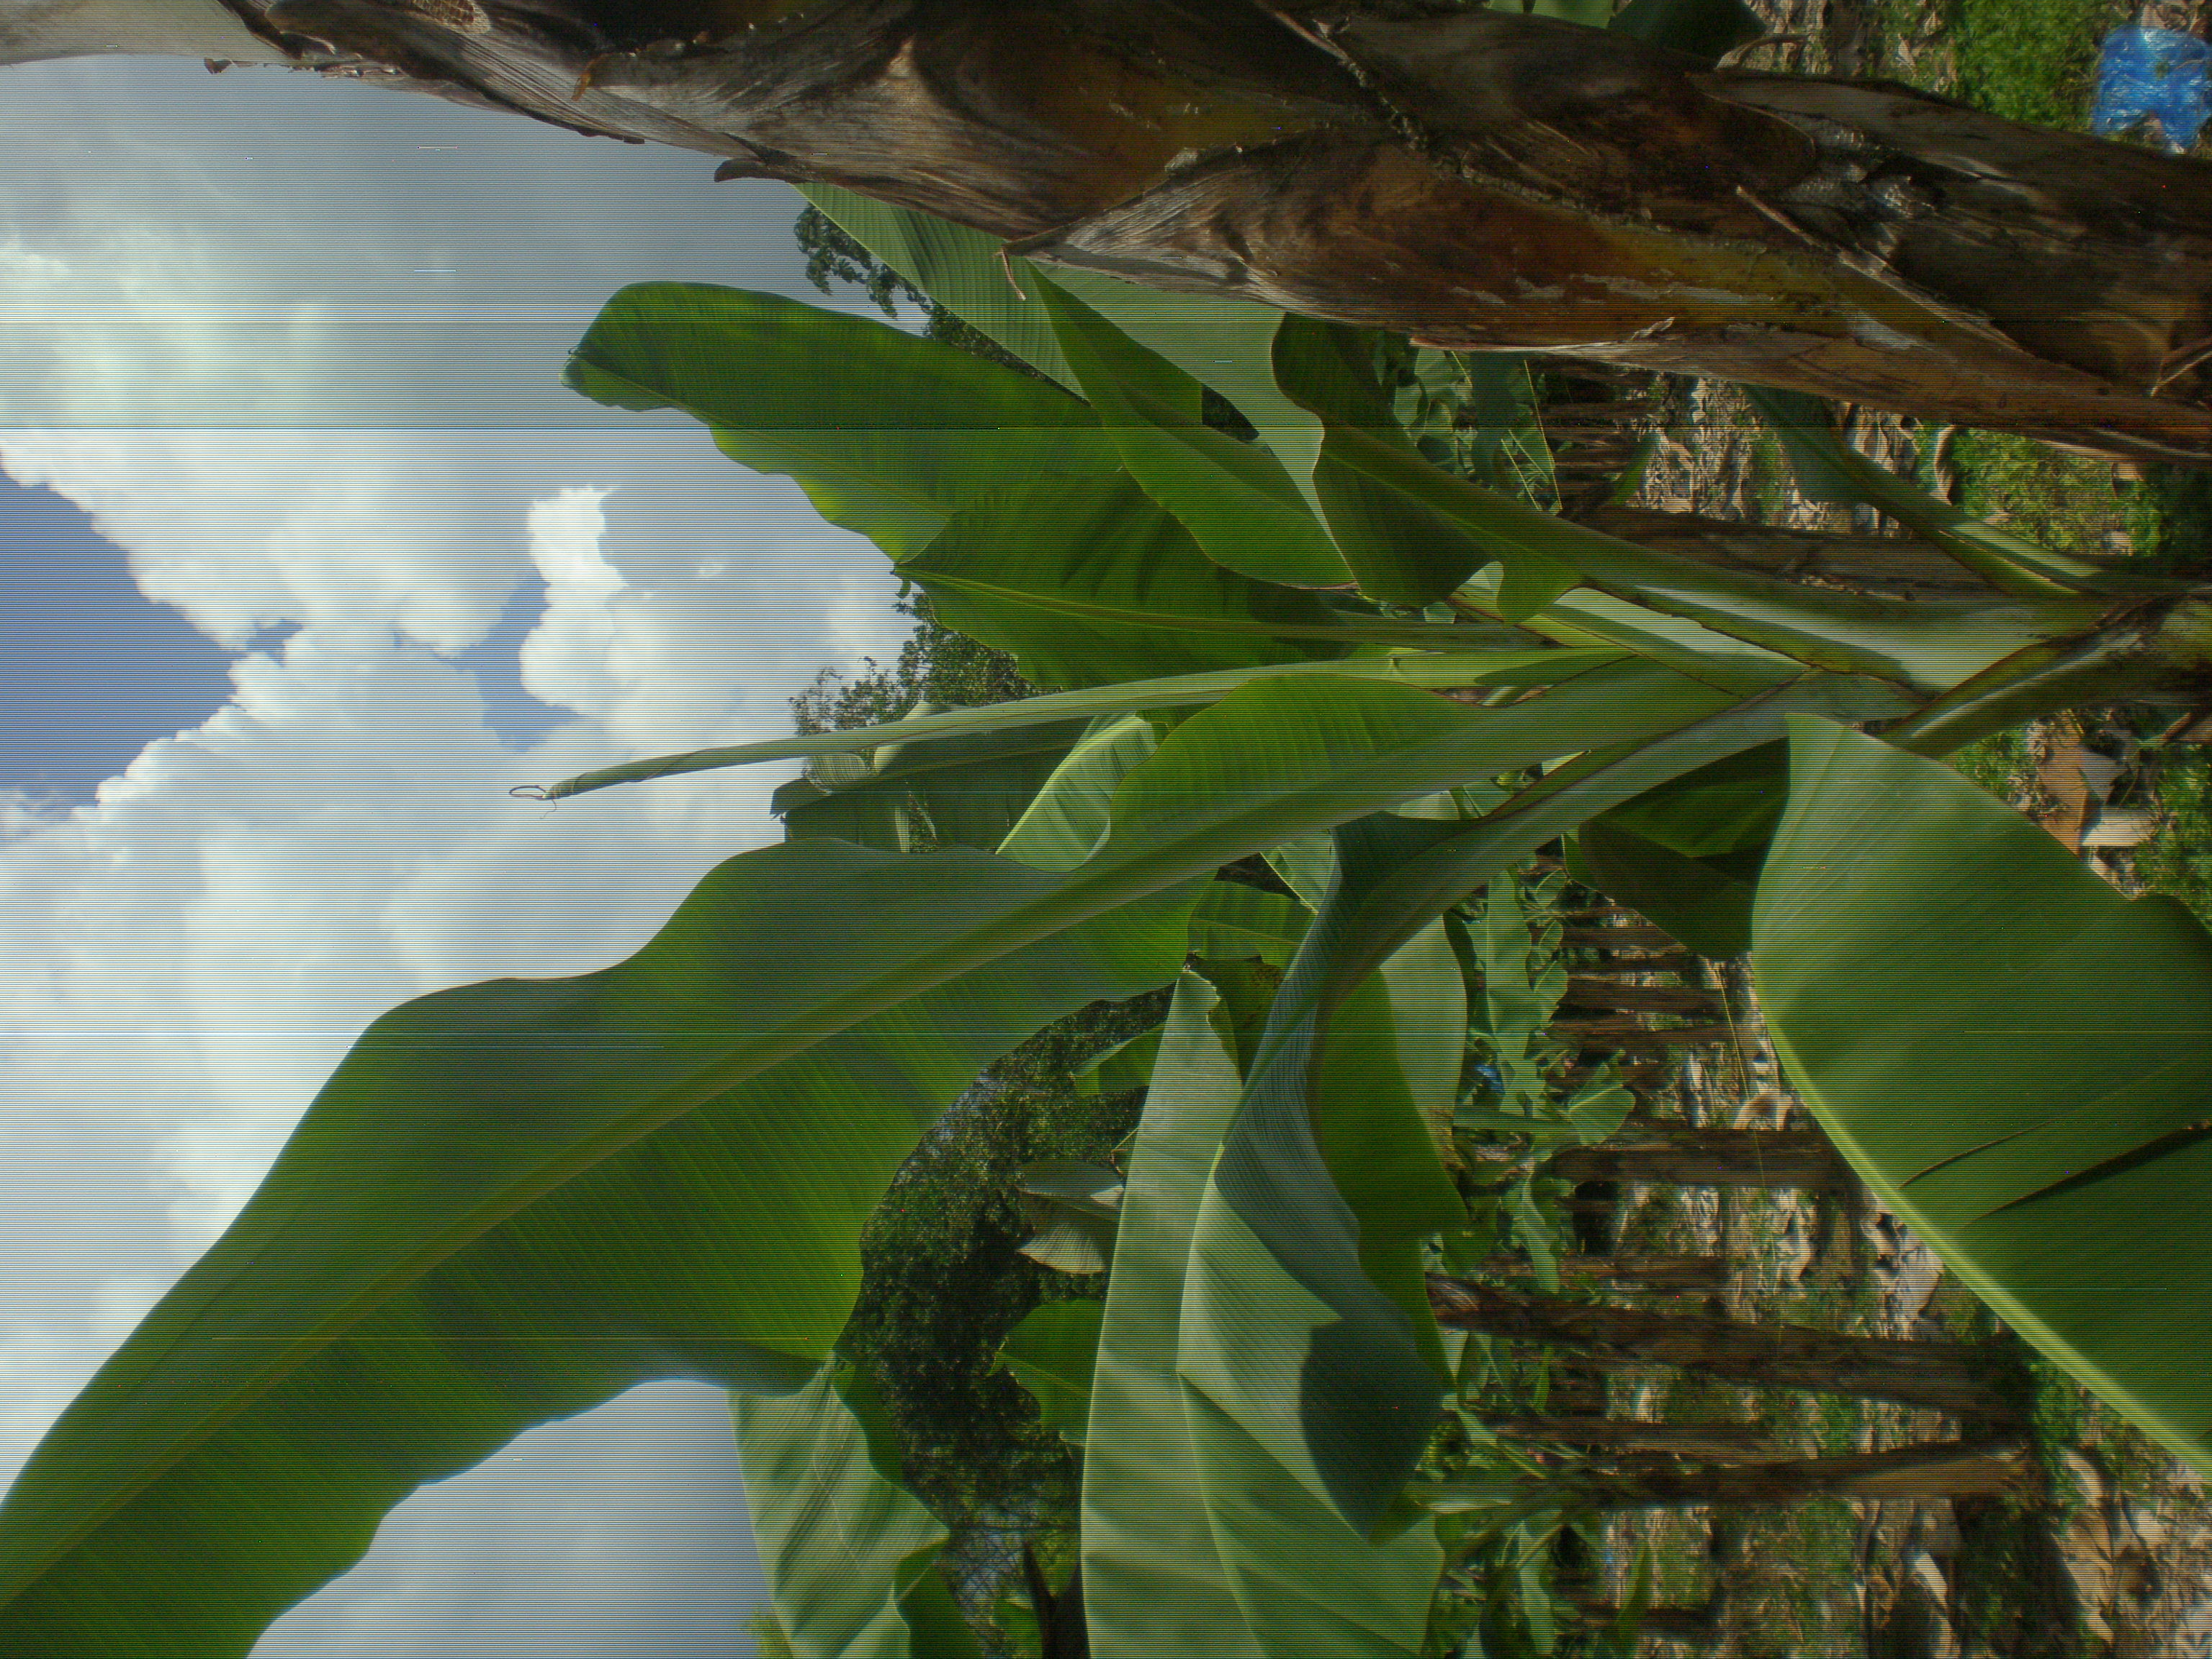candleleafs: (516, 652, 1235, 809)
